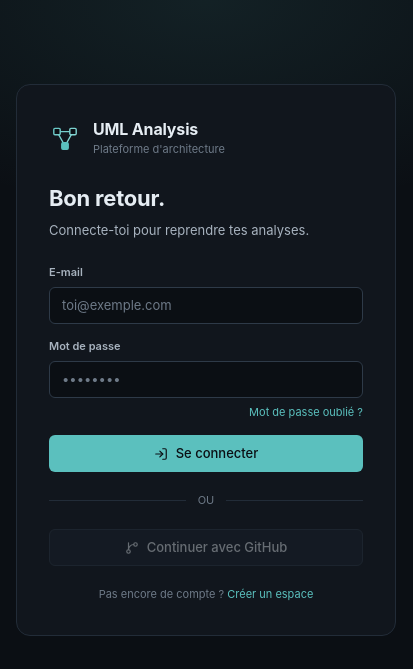
Login — error handling › clears the error message when the form is resubmitted
The width and height of the screenshot is (413, 669).
Type "test@test.com" into the field with placeholder "toi@exemple.com" at (206, 306), box [49,287,363,324]
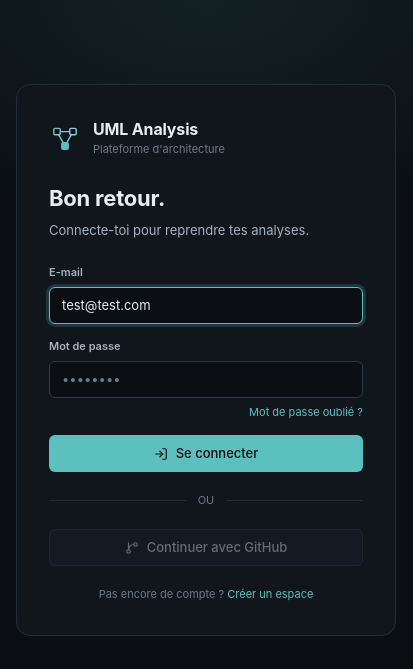
Type "wrong" into the password field with placeholder "••••••••" at (206, 380), box [49,361,363,398]
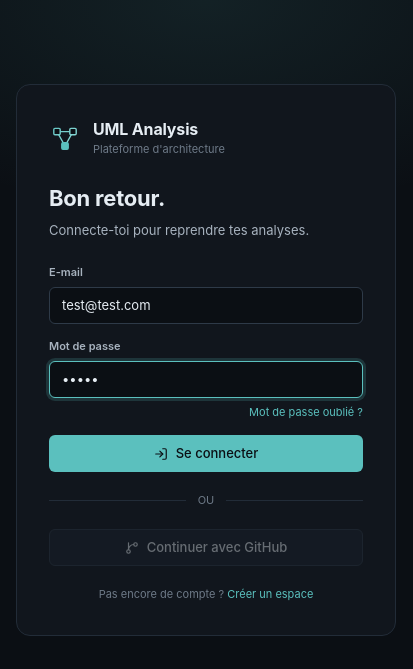
Click the button "Se connecter" at (206, 454), box [49,435,363,472]
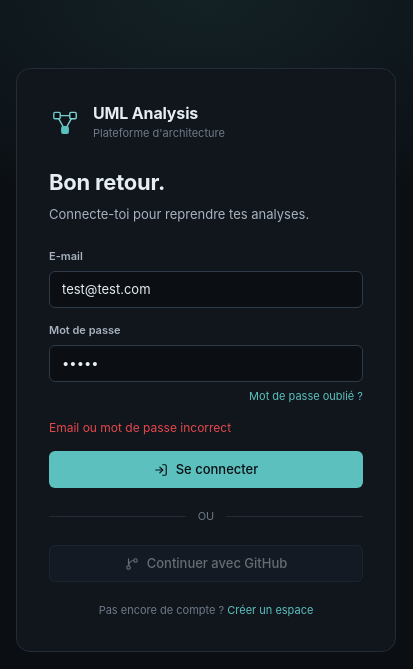
Now the text "Email ou mot de passe incorrect" is shown, box [49,420,231,435]
Click the button "Se connecter" at (206, 470), box [49,451,363,488]
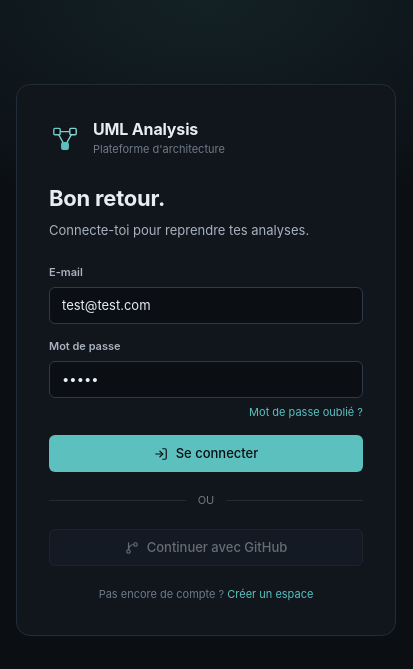
Now the text "Email ou mot de passe incorrect" is gone
